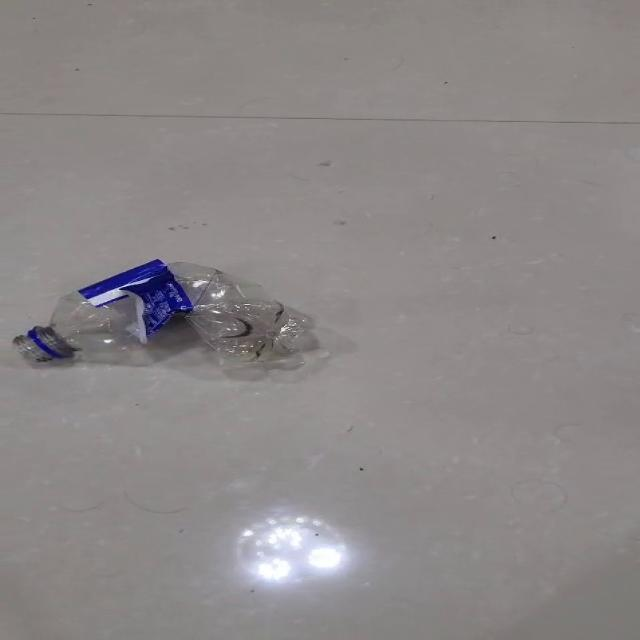plastic: (12, 258, 321, 371)
